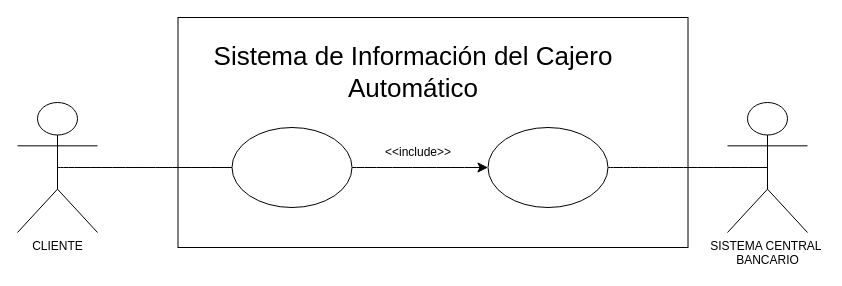
The diagram is 842 pixels wide and 286 high, and some of its shapes have lost their labels. Here are the shapes that lost their labels. From the top down, the box of each, then its label:
(231, 126, 352, 208): RETIRAR EFEFCTIVO
(487, 126, 608, 208): AUTENTICAR CLIENTE
